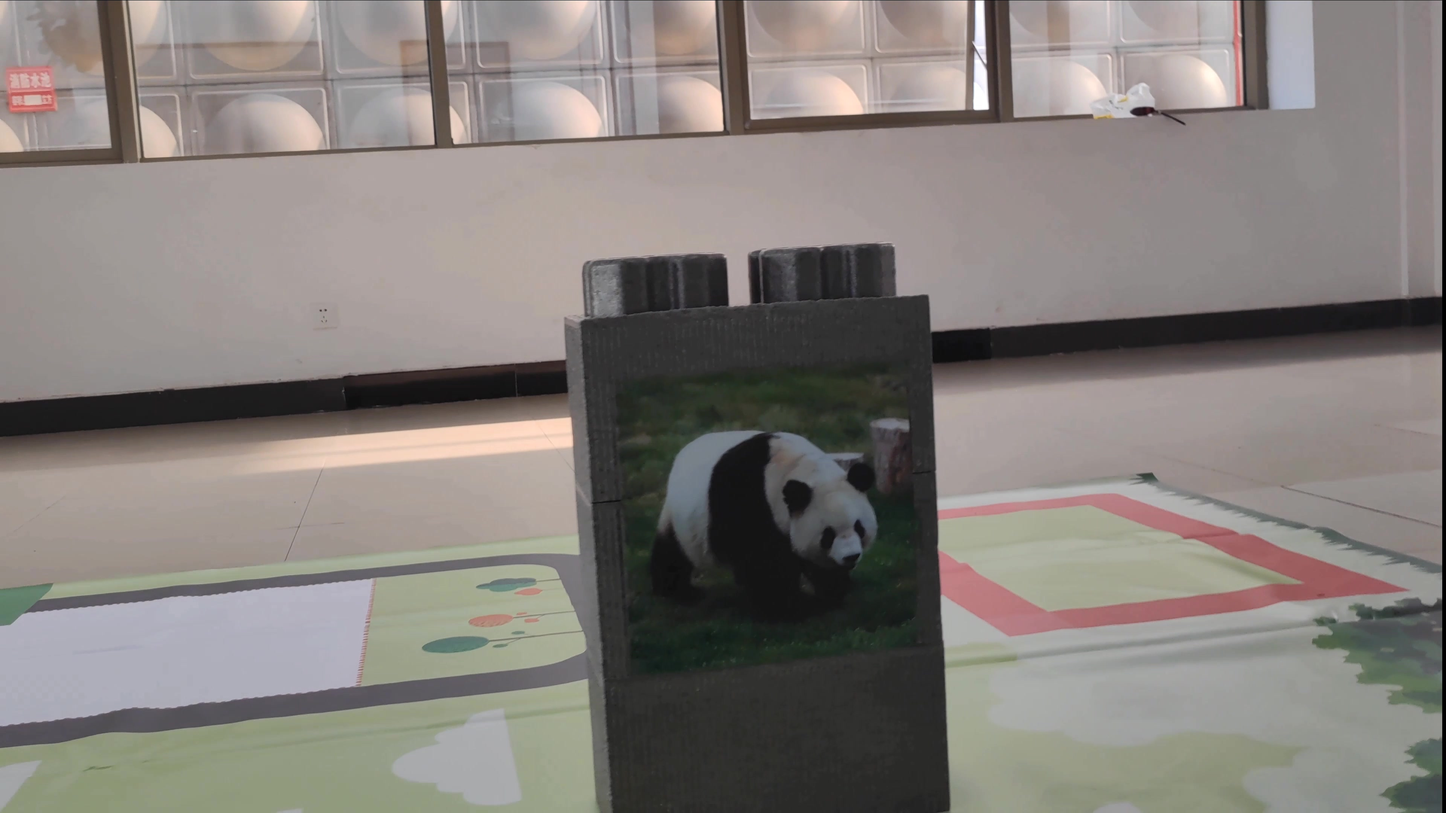panda: (616, 425, 897, 629)
